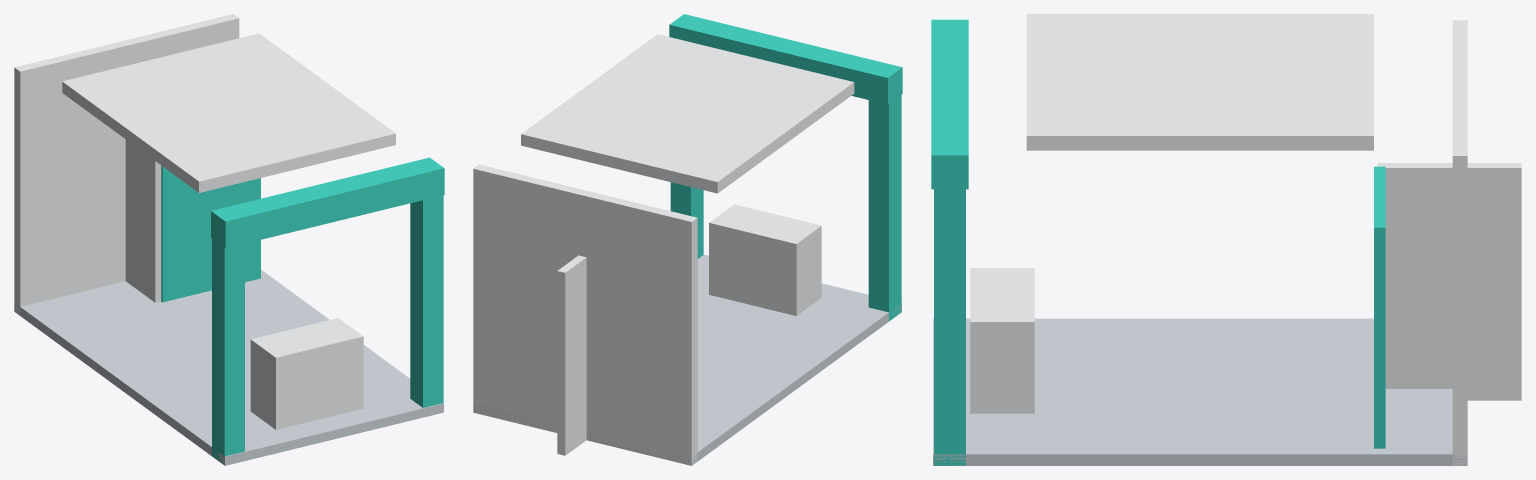
The picture shows the model from 3 angles, left to right: view 1: azimuth 30°, elevation 25°; view 2: azimuth 150°, elevation 25°; view 3: azimuth 270°, elevation 25°; orthographic projection. The views are drawn at different scales.
Visible parts, largest first — view 1: Exhibition Booth Concept; view 2: Exhibition Booth Concept; view 3: Exhibition Booth Concept.
Boxes of the visible parts, box(x1,y1,x2,y2) form: Exhibition Booth Concept: box(14, 14, 444, 465); Exhibition Booth Concept: box(473, 14, 902, 465); Exhibition Booth Concept: box(931, 14, 1521, 465).
Size of the model in its own units: 3 by 3.34 by 5.52.
